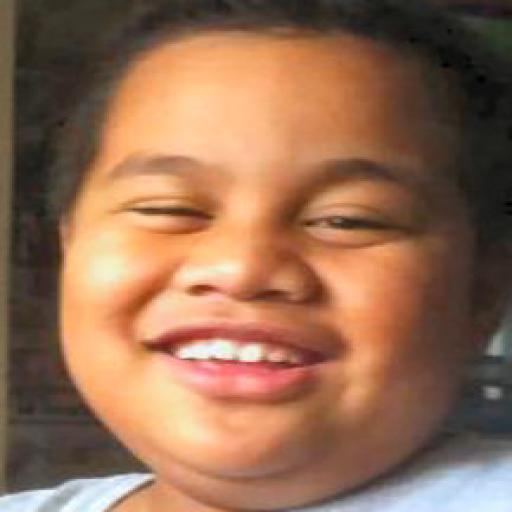Autism: (32, 12, 496, 476)
